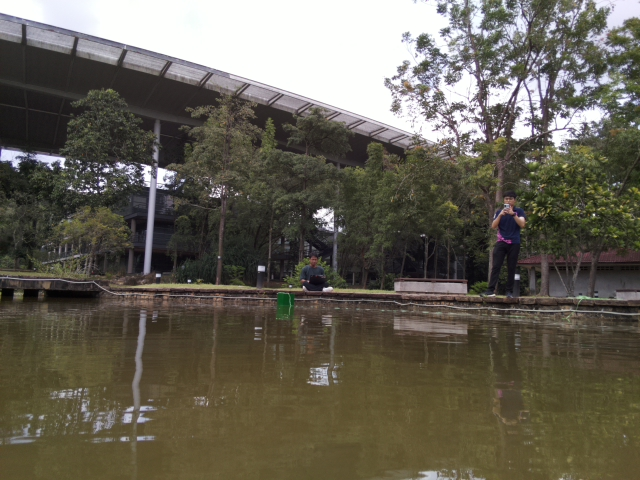obstacle: (276, 292, 295, 309)
